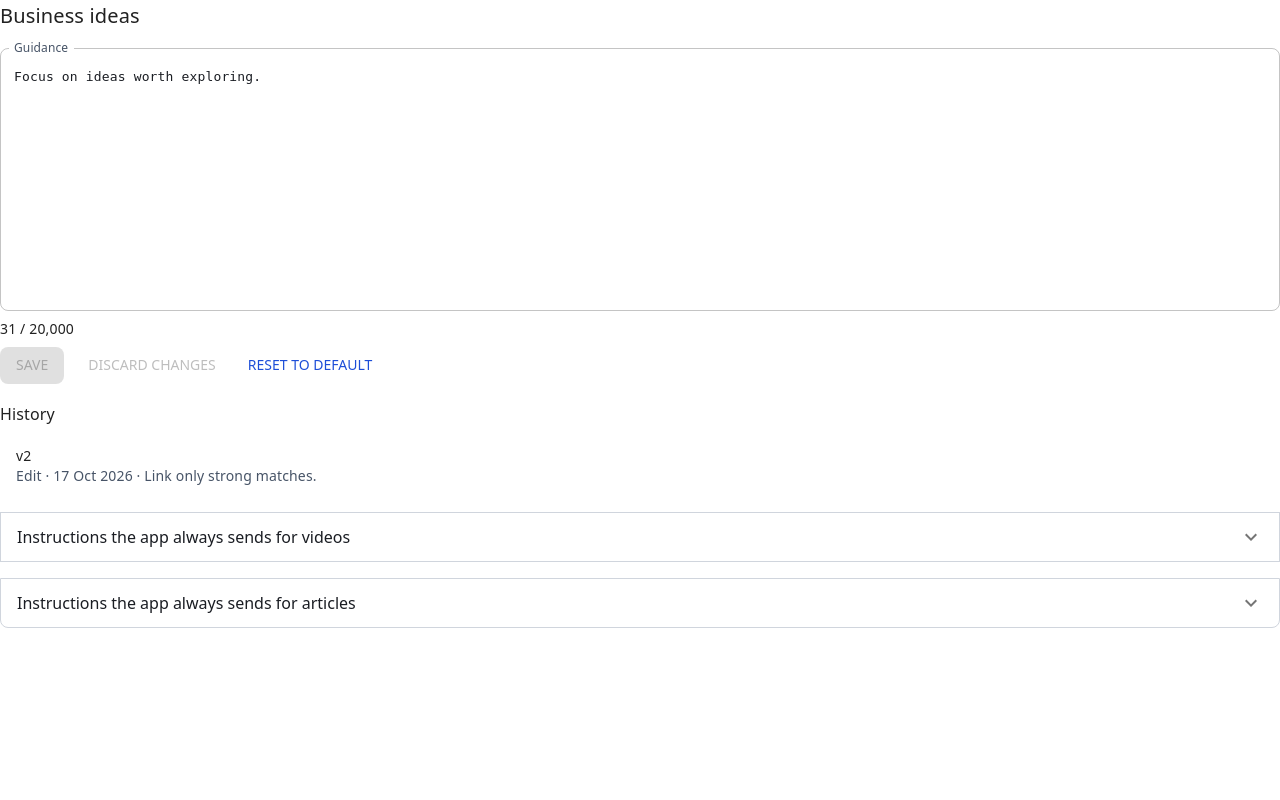
Test: PromptPanel, a summary profile › resets to the shipped text after confirming, and clears the edit
Type " more" into the text box labelled "Guidance".
click(640, 180); type(" more")  # box [14,64,1266,294]
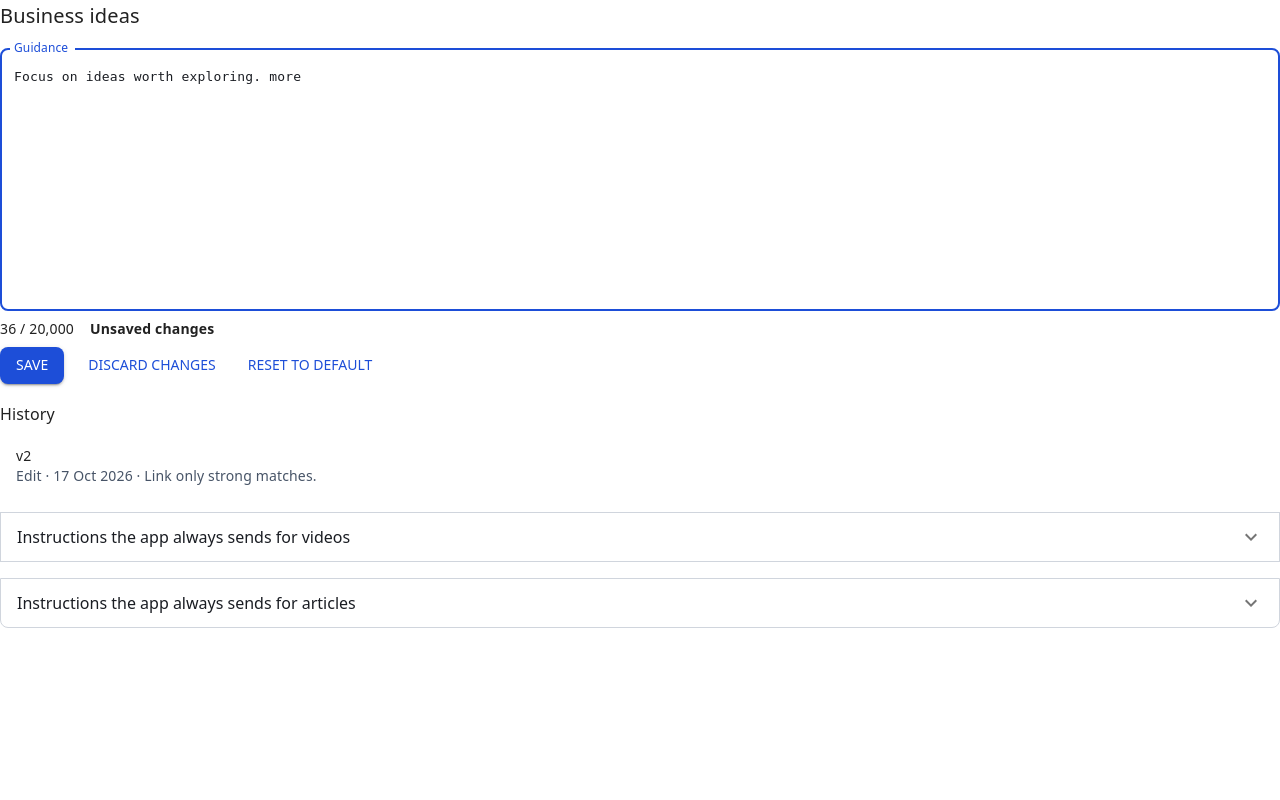
Click the button "Reset to default".
click(310, 365)  # box [240,347,380,384]
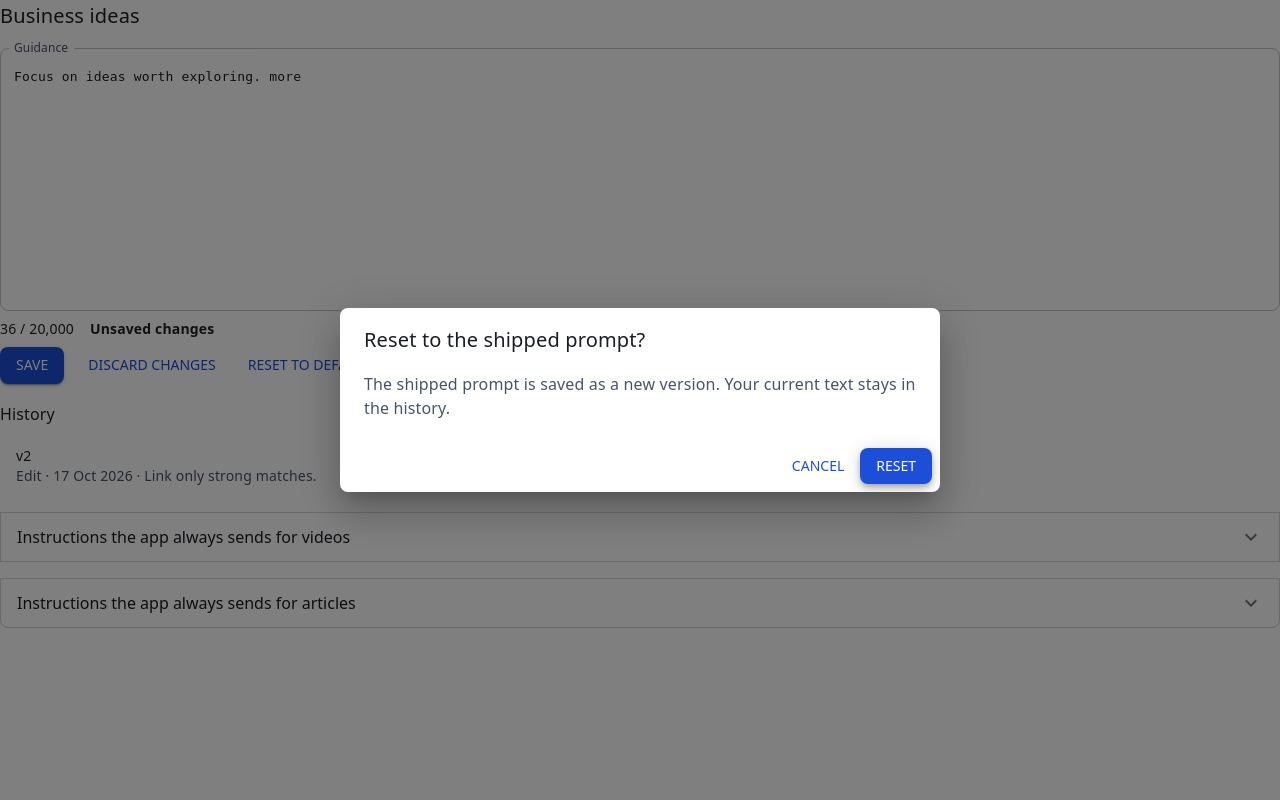
Click the button "Reset".
click(896, 466)  # box [860,448,932,484]
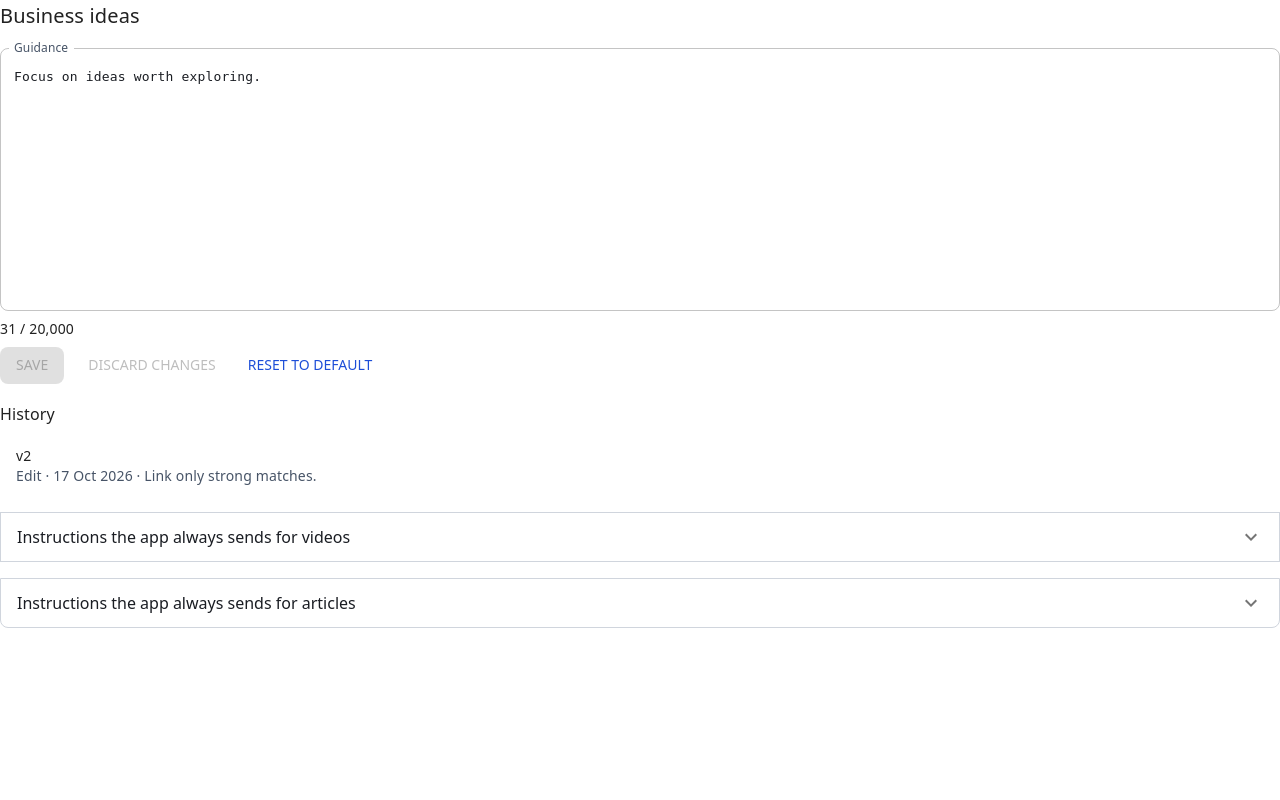
Check: the text "Unsaved changes" is gone
